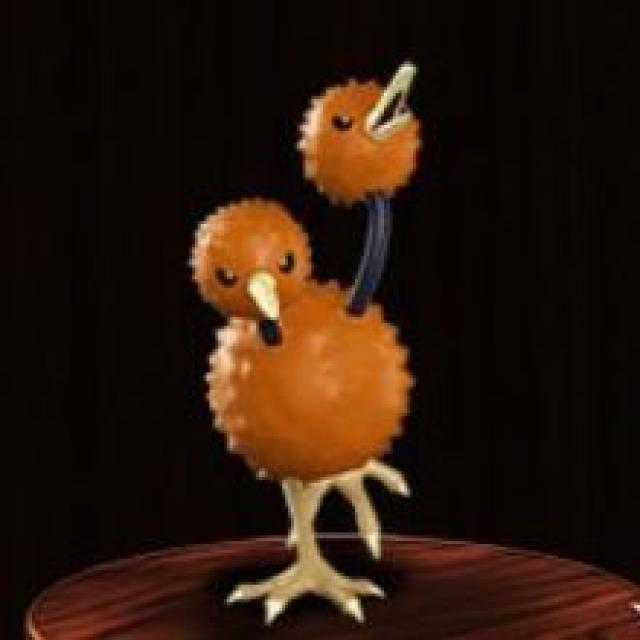Doduo: (193, 57, 426, 627)
